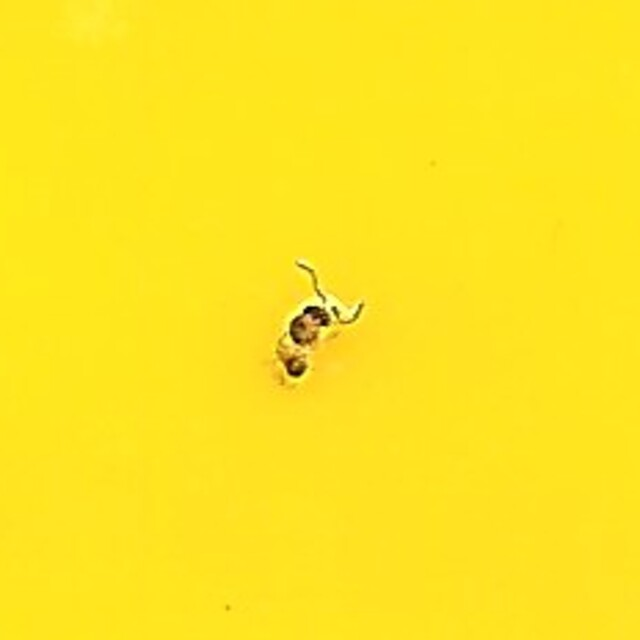Hymenoptera: (276, 247, 364, 393)
